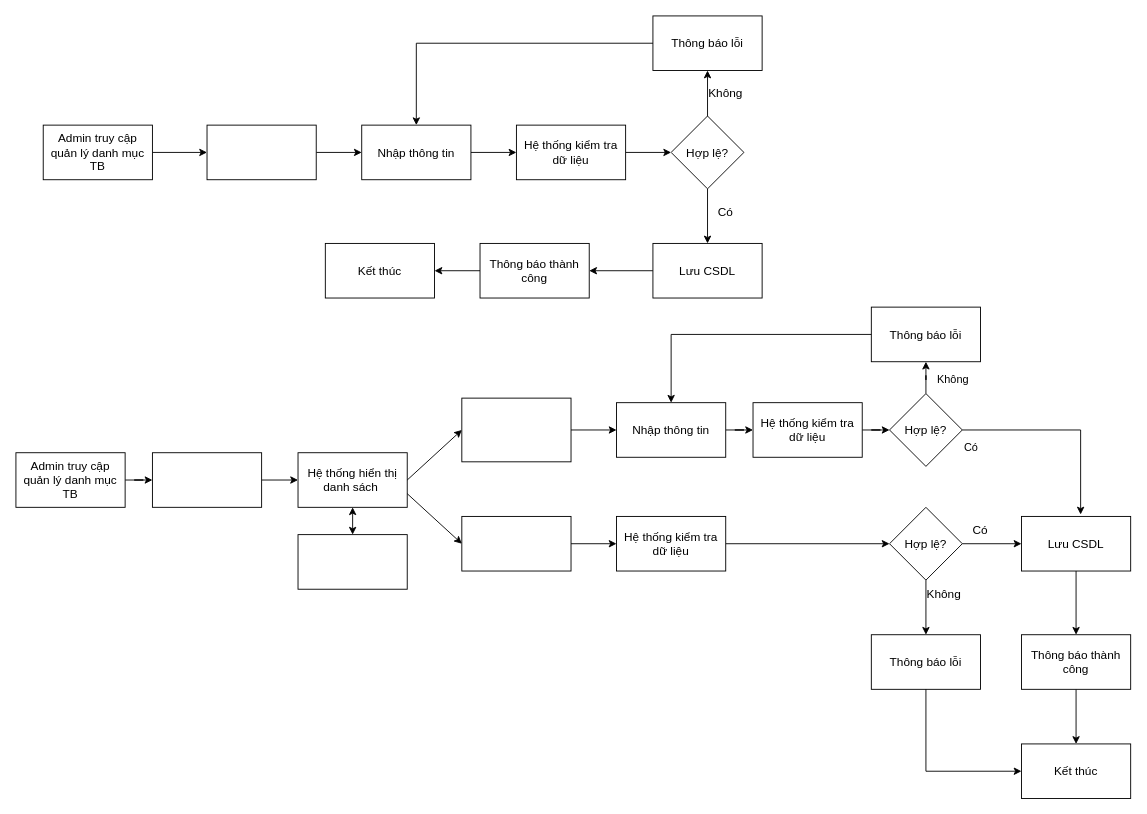
The diagram is 1147 pixels wide and 814 high, and some of its shapes have lost their labels. The centre of each missing label's shape, as x and y in pixels:
"Danh sách danh mục" belongs at point (207, 479).
"Sửa danh mục" belongs at point (516, 429).
"Tìm kiếm theo tên" belongs at point (352, 561).
"Tạo danh mục" belongs at point (261, 152).
"Xóa danh mục" belongs at point (516, 543).
